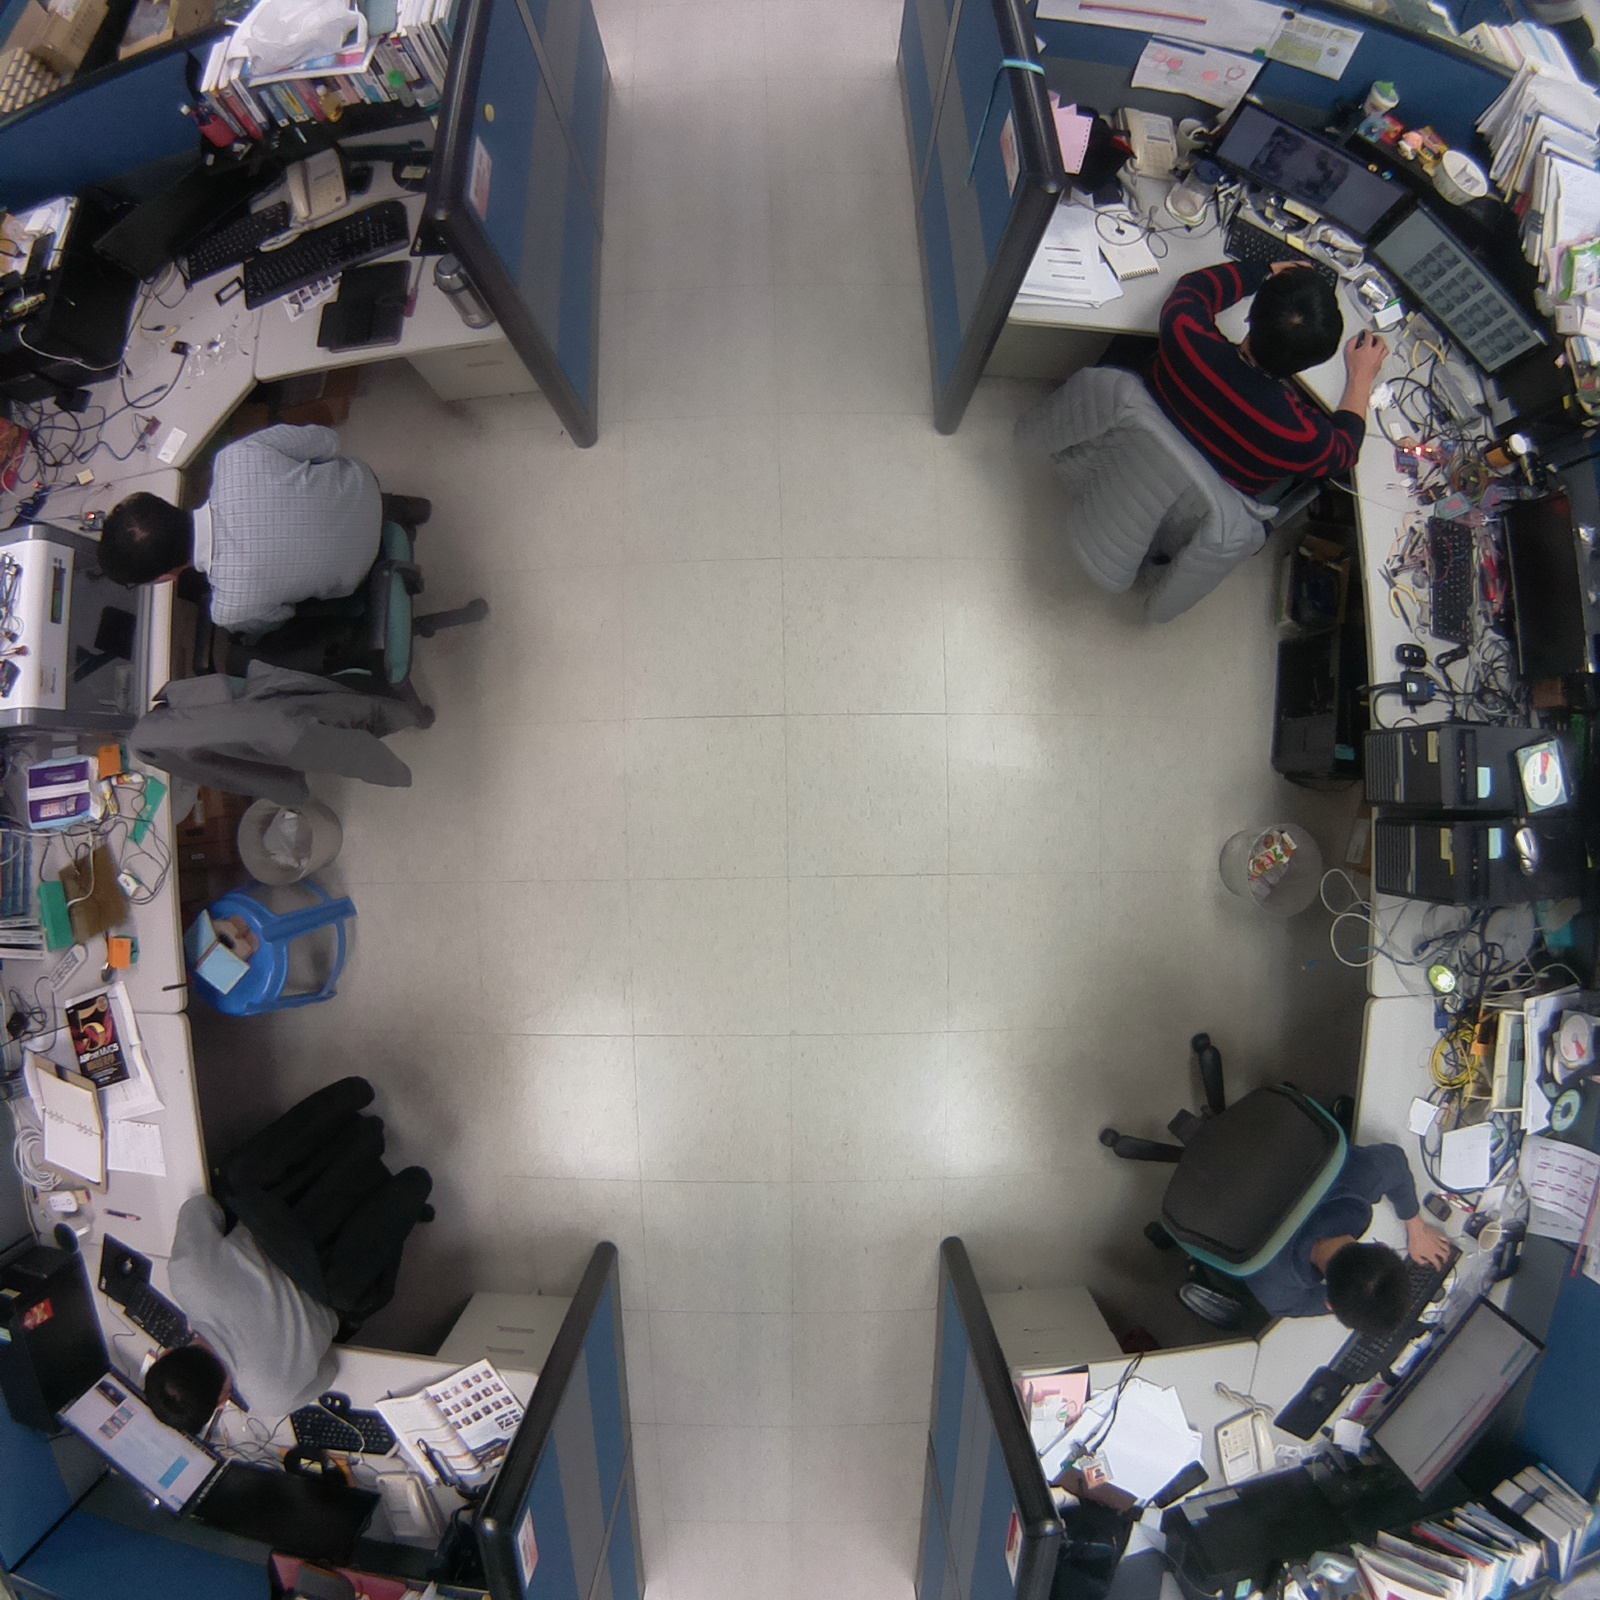head: (1240, 261, 1351, 380), (93, 487, 204, 597), (1317, 1231, 1421, 1342), (136, 1336, 234, 1442)
sitting: (93, 412, 514, 817), (1001, 249, 1398, 637), (1065, 1017, 1455, 1347), (122, 1068, 460, 1444)
